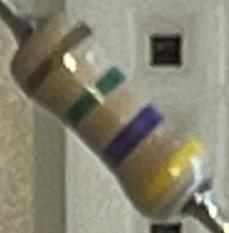Blue: (100, 102, 166, 171)
Green: (62, 65, 127, 131)
Side-Gold: (22, 20, 91, 97)
Yellow: (135, 137, 209, 212)
